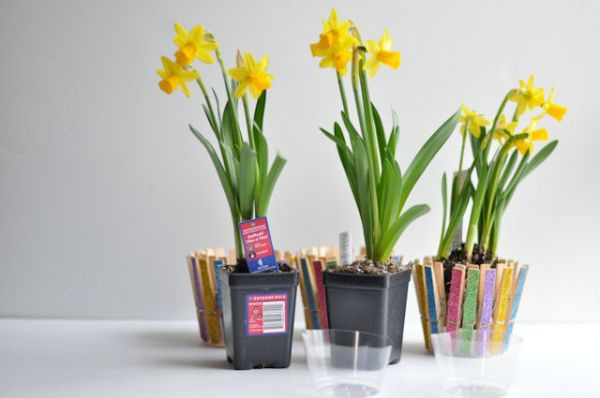flowerpot: (416, 258, 526, 353), (216, 260, 297, 369), (325, 262, 408, 364)
